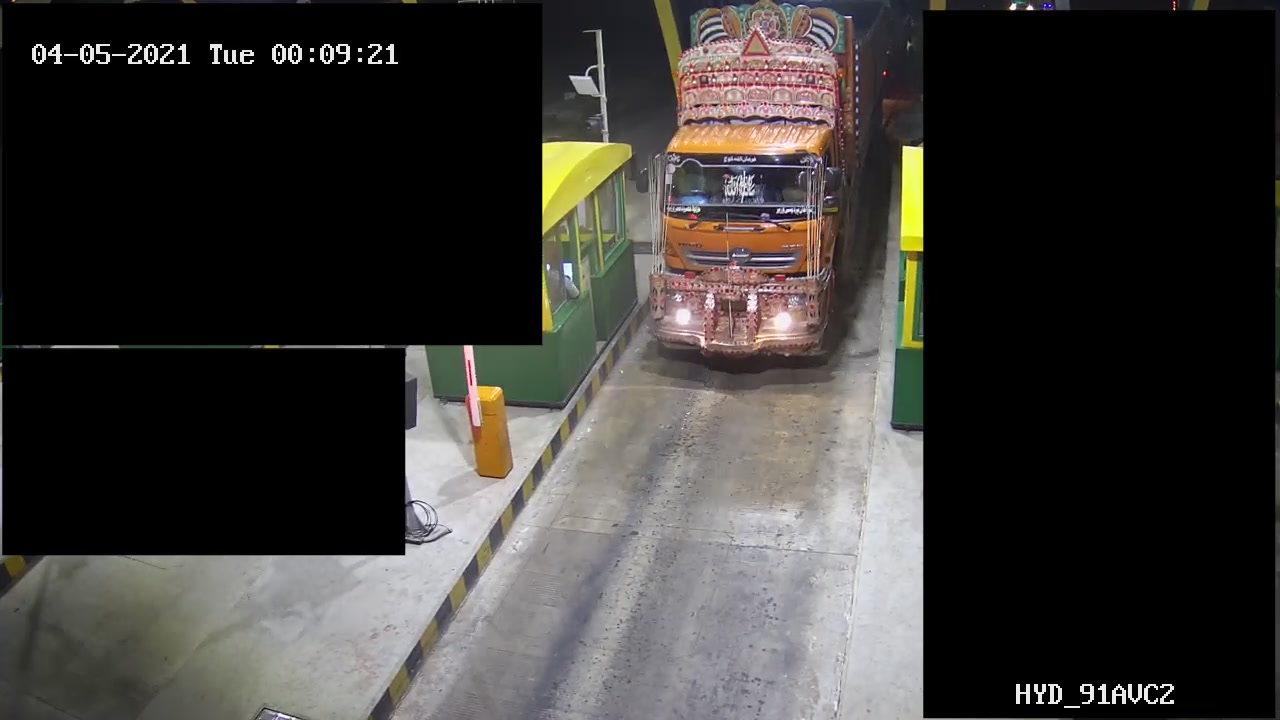F6: (631, 1, 898, 369)
